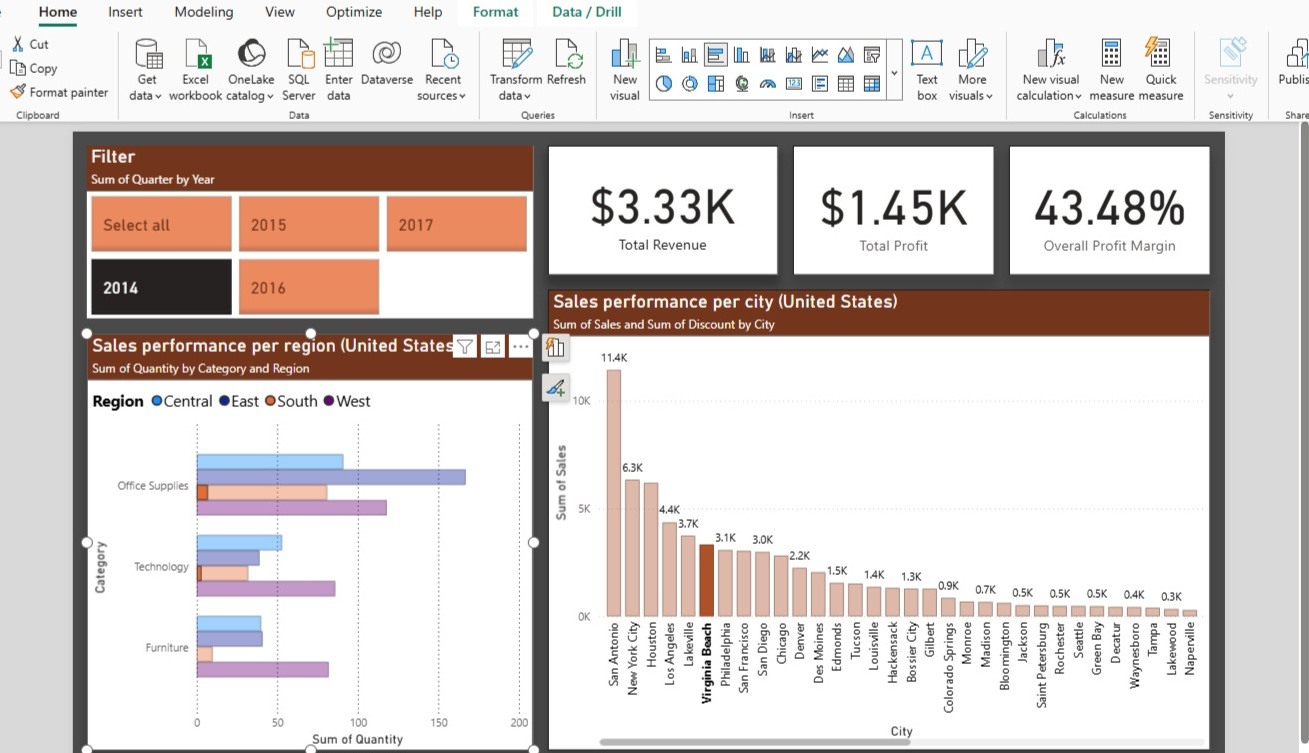

The dashboard page shown, as its layout file describes it:
{"tool":"powerbi","page":{"name":"Page 1","canvas":[1280,720],"ordinal":0},"visuals":[{"type":"card","fields":{"Values":["Cleaned Superstore.Total Revenue"]},"box":[528,16,256,144],"z":0},{"type":"card","fields":{"Values":["Cleaned Superstore.Total Profit"]},"box":[800,16,224,144],"z":1000},{"type":"card","fields":{"Values":["Cleaned Superstore.Overall Profit Margin"]},"box":[1040,16,224,144],"z":2000},{"type":"columnChart","title":"Sales performance per city (United States)","fields":{"Category":["Cleaned Superstore.City"],"Y":["Sum(Cleaned Superstore.Sales)"]},"box":[528,176,736,512],"z":3000},{"type":"advancedSlicerVisual","title":"Filter","fields":{"Values":["Year.Year"]},"box":[16,16,496,192],"z":4000},{"type":"clusteredBarChart","title":"Sales performance per region (United States)","fields":{"Series":["Cleaned Superstore.Region"],"Category":["Cleaned Superstore.Category"],"Y":["Sum(Cleaned Superstore.Quantity)"]},"box":[16,224,496,464],"z":5000}]}

Visuals, with their boxes on the page's 1280x720 design canvas (x1, y1, x2, y2). These are canvas units, not pixel positions in the 1309x753 screenshot, which may show the page scaled, cropped or inside an application window:
card - Cleaned Superstore.Total Revenue: <region>528, 16, 784, 160</region>
card - Cleaned Superstore.Total Profit: <region>800, 16, 1024, 160</region>
card - Cleaned Superstore.Overall Profit Margin: <region>1040, 16, 1264, 160</region>
"Sales performance per city (United States)" columnChart: <region>528, 176, 1264, 688</region>
"Filter" advancedSlicerVisual: <region>16, 16, 512, 208</region>
"Sales performance per region (United States)" clusteredBarChart: <region>16, 224, 512, 688</region>
